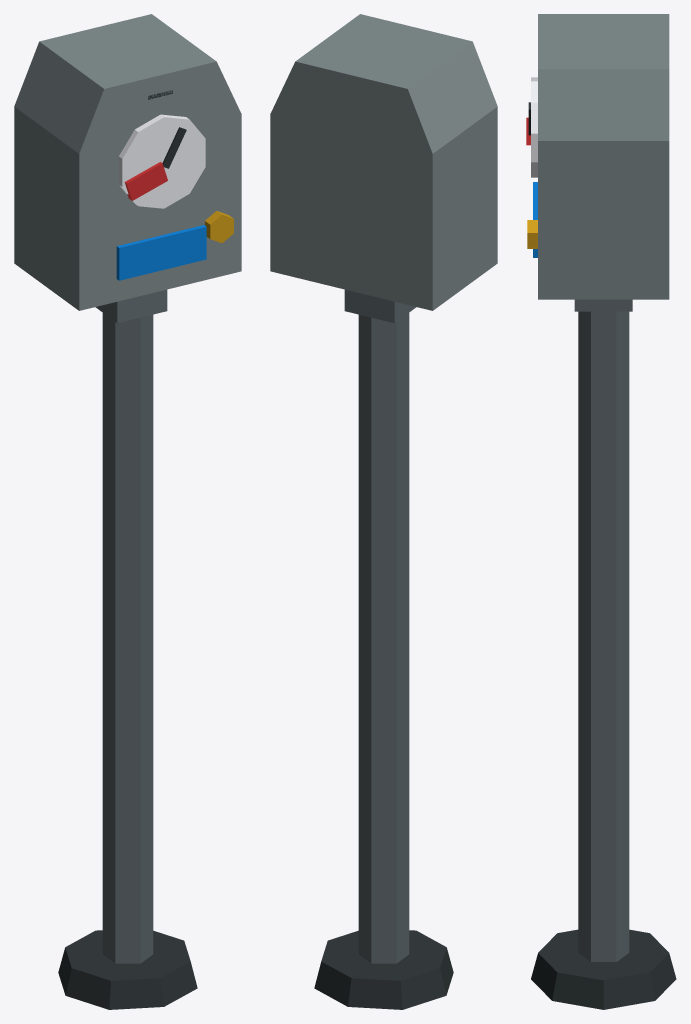
File: parkuhr.glb
3 views of the same model, side by side, from view 1: azimuth 30°, elevation 25°; view 2: azimuth 150°, elevation 25°; view 3: azimuth 270°, elevation 25° (orthographic).
Parts seen in each view (by area): view 1: parkuhr-m; view 2: parkuhr-m; view 3: parkuhr-m.
Part boxes in pixels (<box>): parkuhr-m: <box>14,14,241,1009</box>; parkuhr-m: <box>270,14,497,1009</box>; parkuhr-m: <box>526,14,676,1009</box>.
Bounding box in the file's own units: 0.26 × 1.42 × 0.206.
